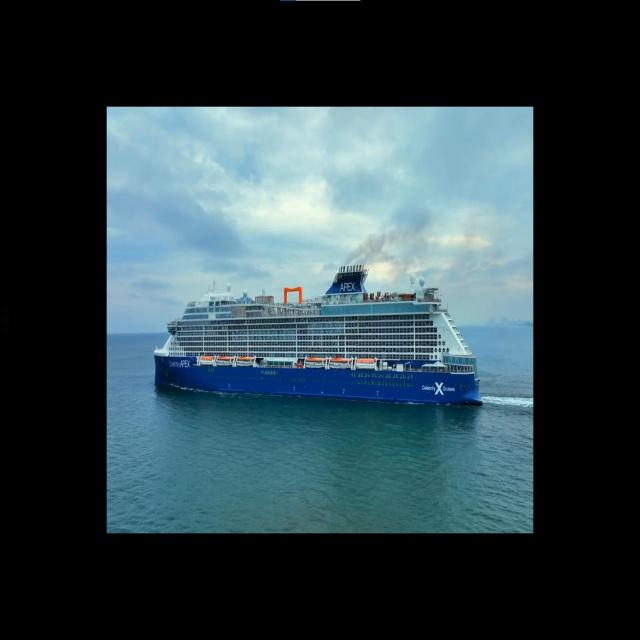ship: (154, 270, 481, 406)
